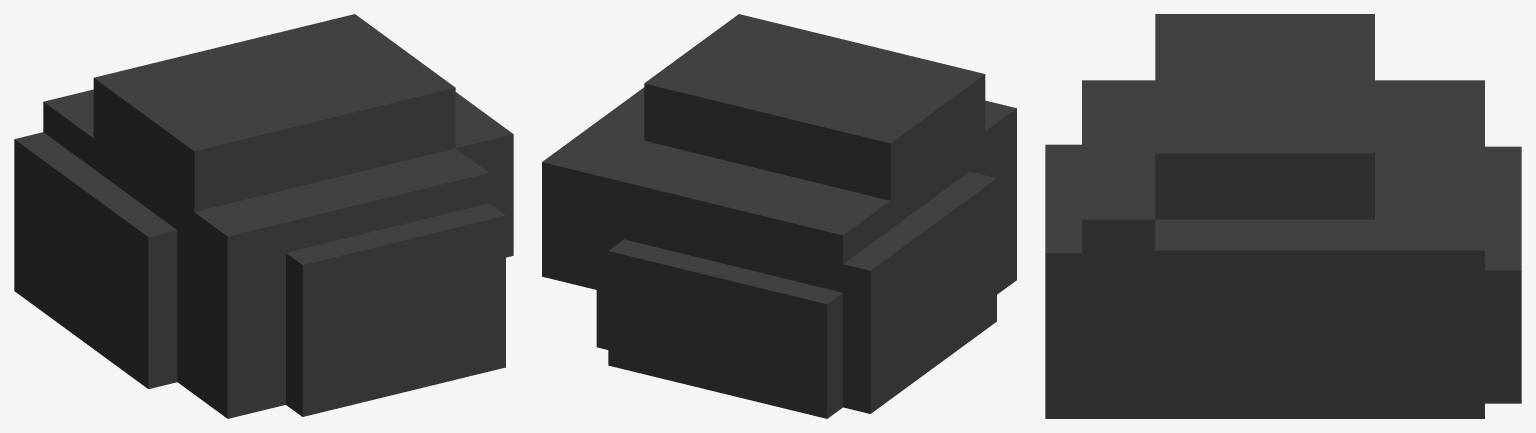
Rendered from kivi1.obj.
The picture shows the model from 3 angles, left to right: view 1: azimuth 30°, elevation 25°; view 2: azimuth 150°, elevation 25°; view 3: azimuth 270°, elevation 25°; orthographic projection. The views are drawn at different scales.
Bounding box in the file's own units: 12 × 8 × 13.
Materials: 1 (1 with a texture image).
